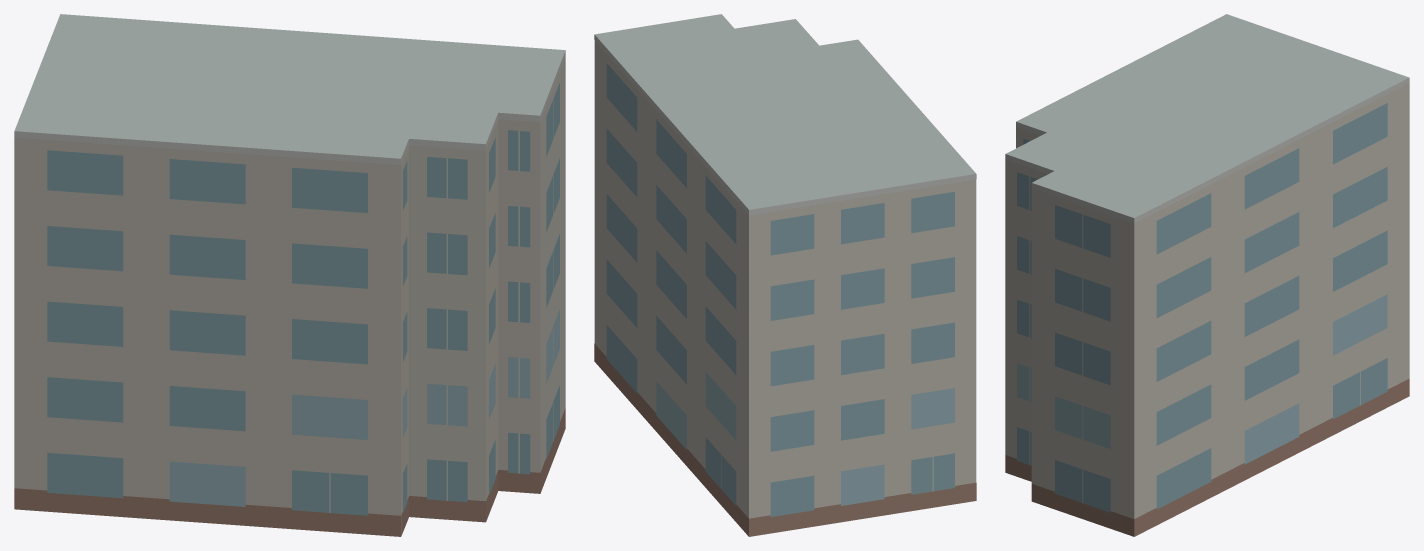
The model's file is survey-upis-32763497.glb.
3 views of the same model, side by side, from view 1: azimuth 30°, elevation 25°; view 2: azimuth 150°, elevation 25°; view 3: azimuth 270°, elevation 25° (orthographic). The views are drawn at different scales.
Parts seen in each view (by area): view 1: survey-upis-32763497.tmp; view 2: survey-upis-32763497.tmp; view 3: survey-upis-32763497.tmp.
Boxes of the visible parts, <box> form: survey-upis-32763497.tmp: <box>14,14,565,536</box>; survey-upis-32763497.tmp: <box>594,14,976,536</box>; survey-upis-32763497.tmp: <box>1005,14,1409,536</box>.
Bounding box in the file's own units: 19.93 × 14.5 × 16.67.
